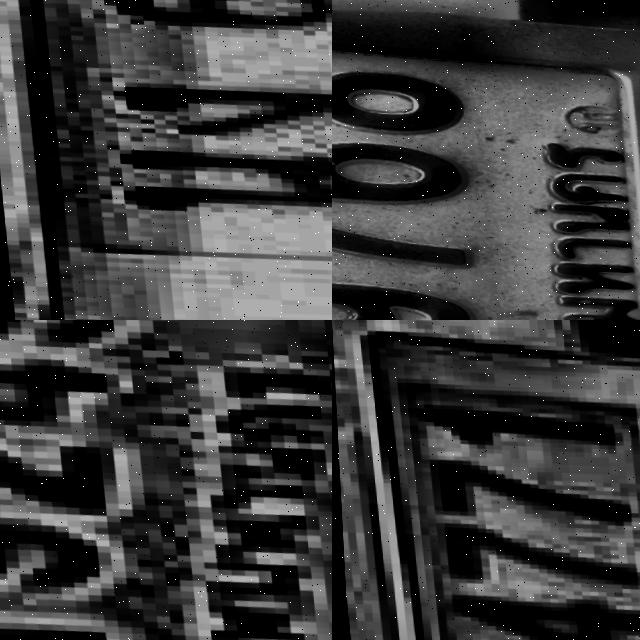license-plate: (0, 0, 332, 320), (0, 320, 332, 640), (332, 0, 640, 320), (346, 320, 640, 640)
